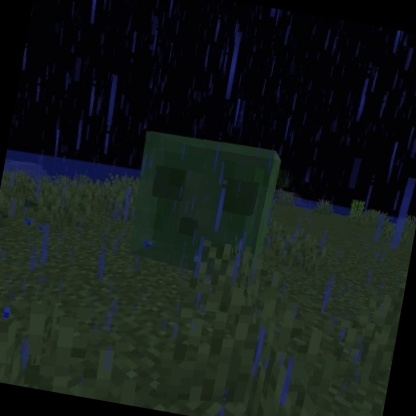slime: (117, 121, 289, 286)
